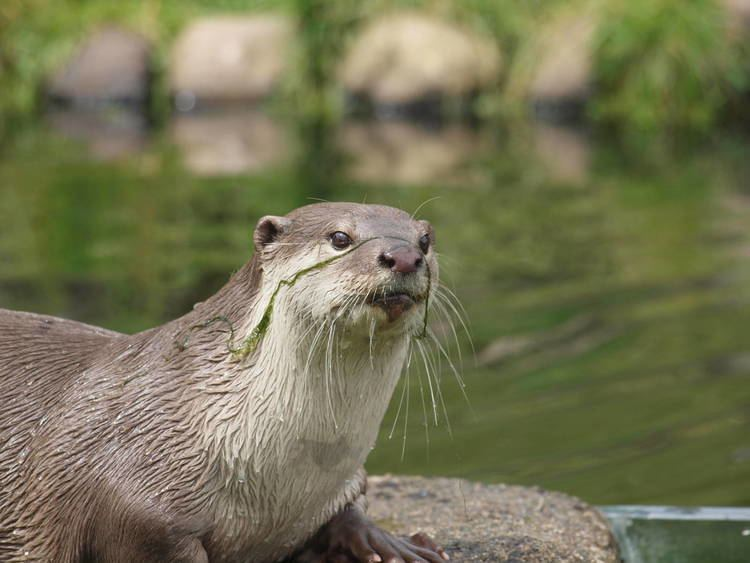otter: (6, 190, 451, 563)
